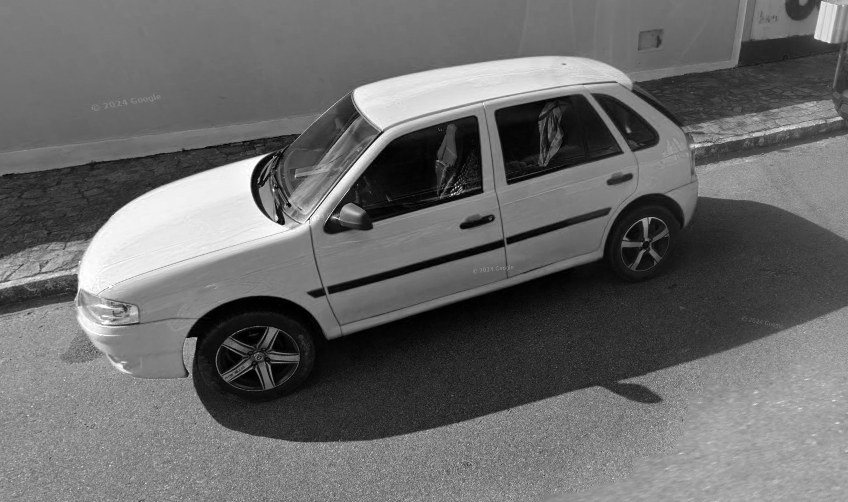car: (71, 51, 699, 406)
